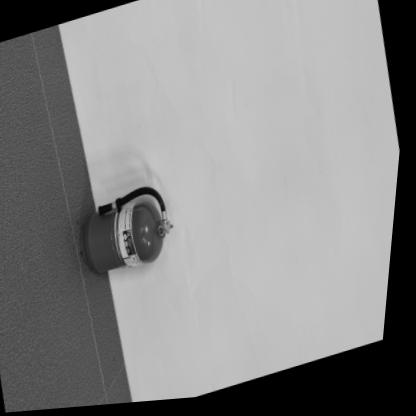FE: (71, 181, 183, 286)
